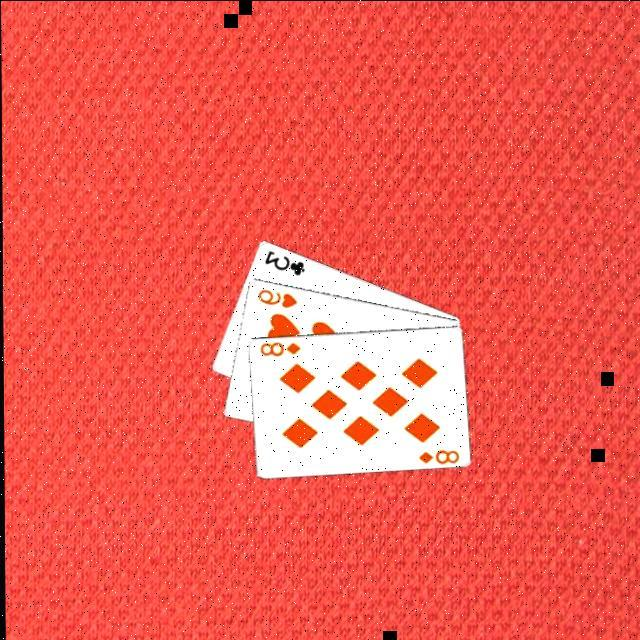3C: (259, 248, 305, 280)
8D: (255, 340, 301, 360), (412, 447, 458, 466)
9H: (251, 287, 297, 311)
